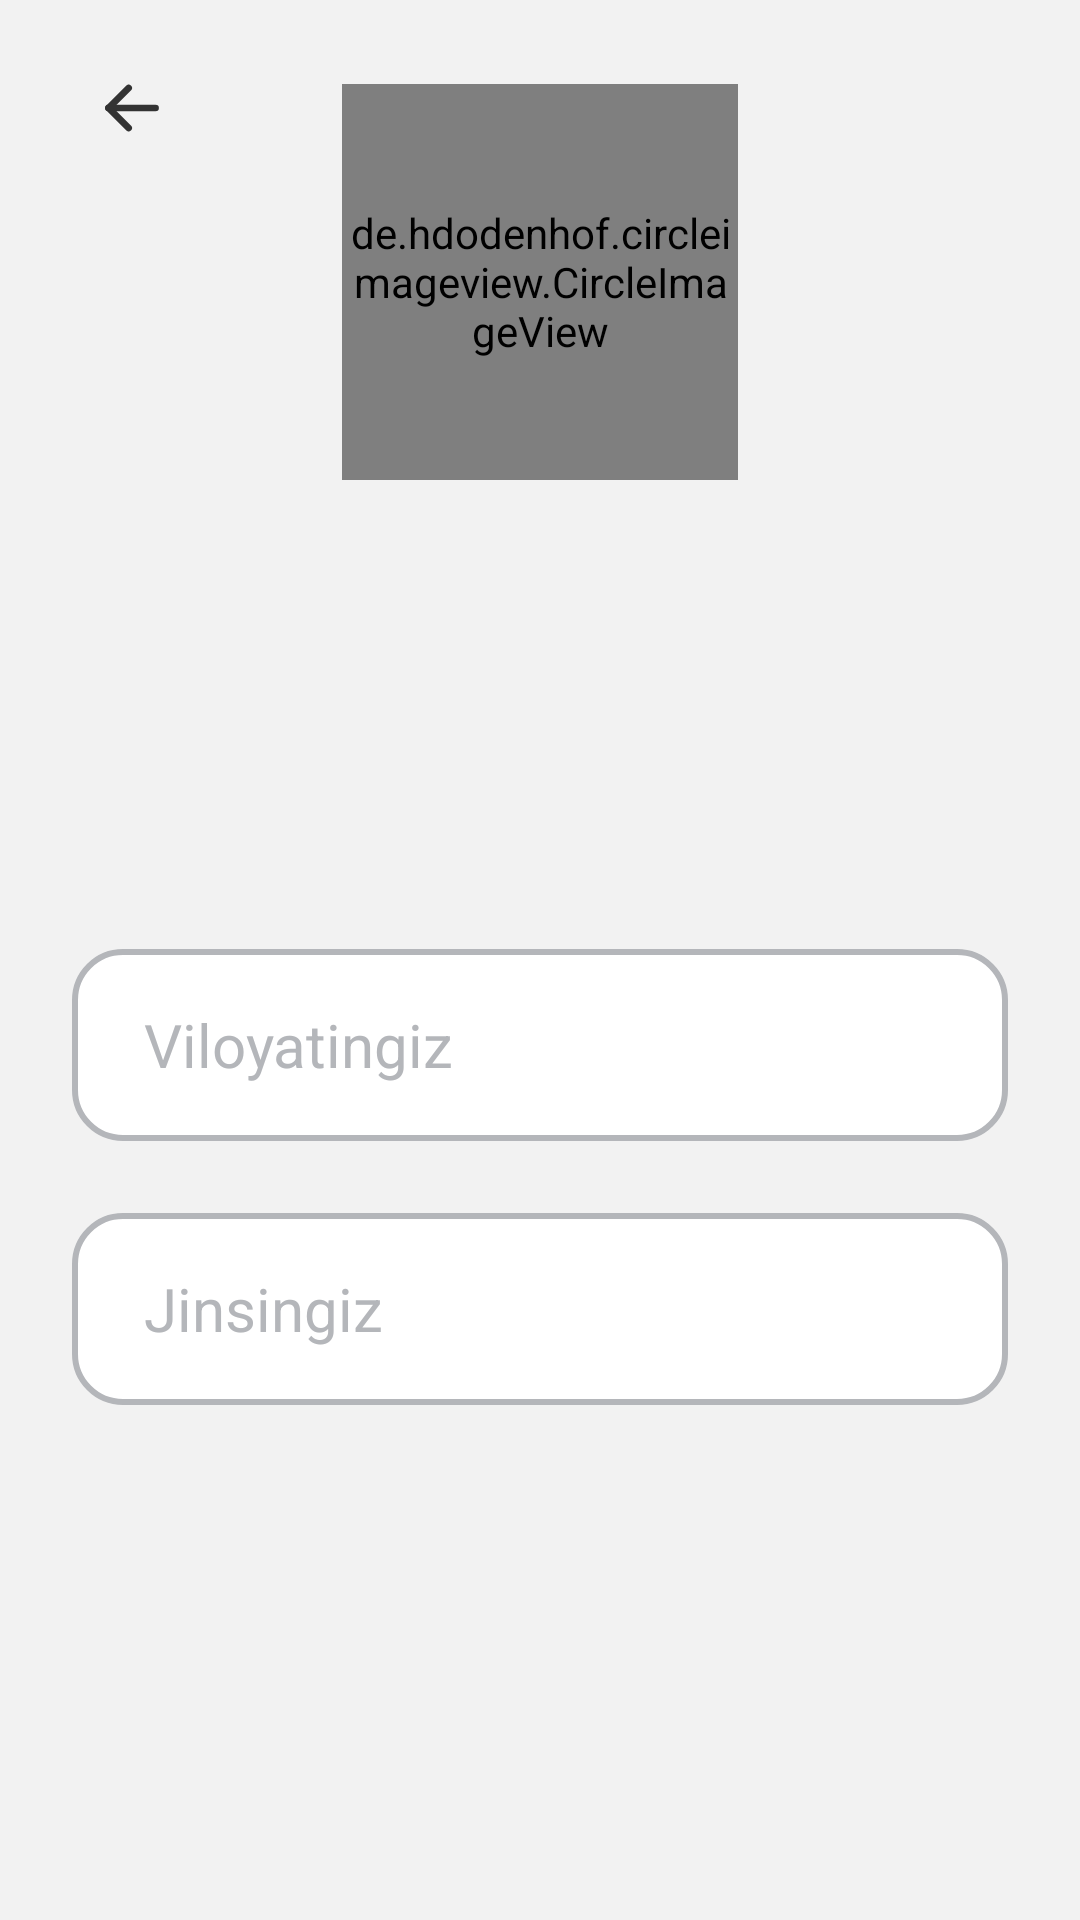

Locate icon controls on the screen. Image size 1080 × 1920, boxes as (x1, y1, x2, y2).
back: (105, 84, 159, 132)
